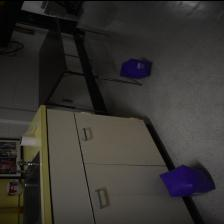cube: (159, 163, 216, 196), (119, 57, 153, 79)
